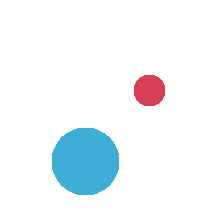circle: (52, 128, 118, 194), (134, 75, 164, 105)
